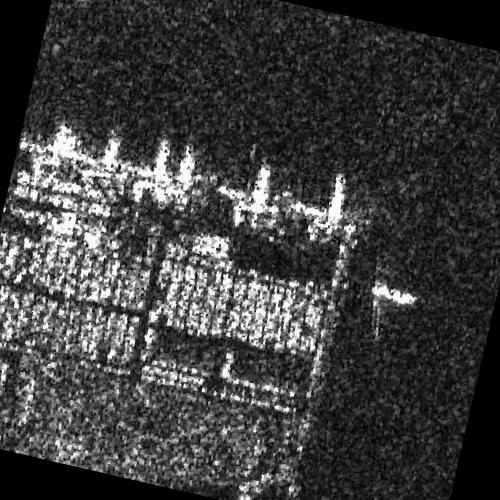ship: (370, 282, 417, 307)
